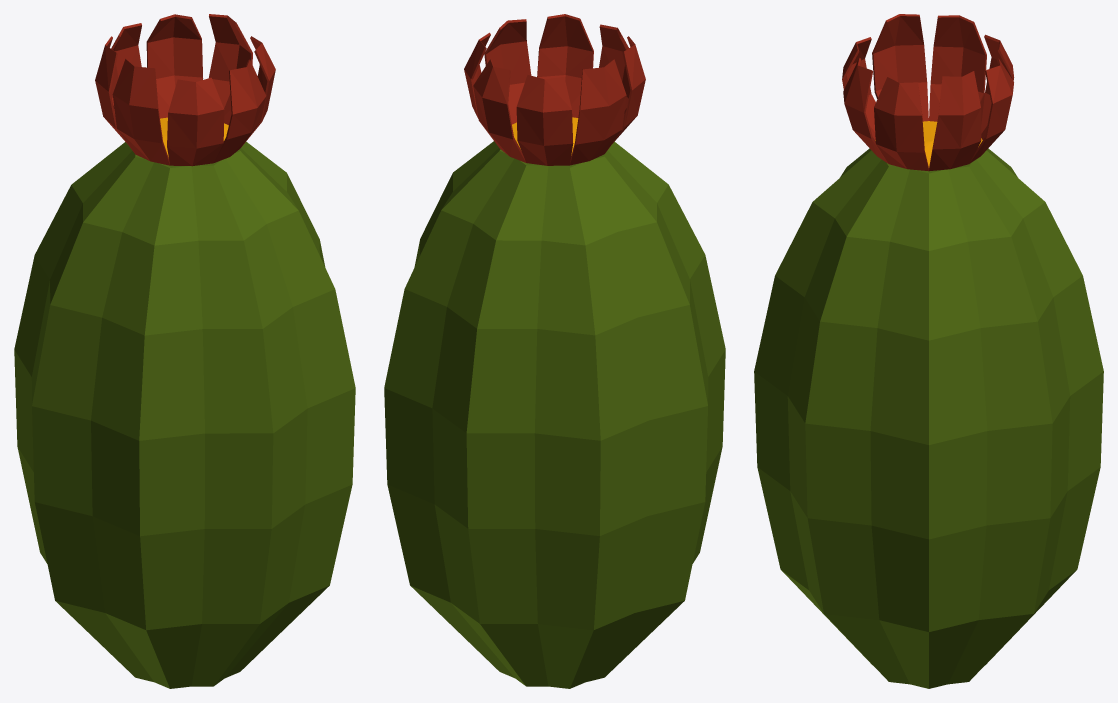
Rendered from Plant_14.fbx.
3 views of the same model, side by side, from view 1: azimuth 30°, elevation 25°; view 2: azimuth 150°, elevation 25°; view 3: azimuth 270°, elevation 25° (orthographic).
Parts seen in each view (by area): view 1: Plant_14; view 2: Plant_14; view 3: Plant_14.
Part boxes in pixels (box(x1,y1,x2,y2)): Plant_14: box(14, 14, 355, 688); Plant_14: box(384, 14, 725, 688); Plant_14: box(754, 14, 1103, 688).
Size of the model in its own units: 0.5969 by 1.19 by 0.5969.
